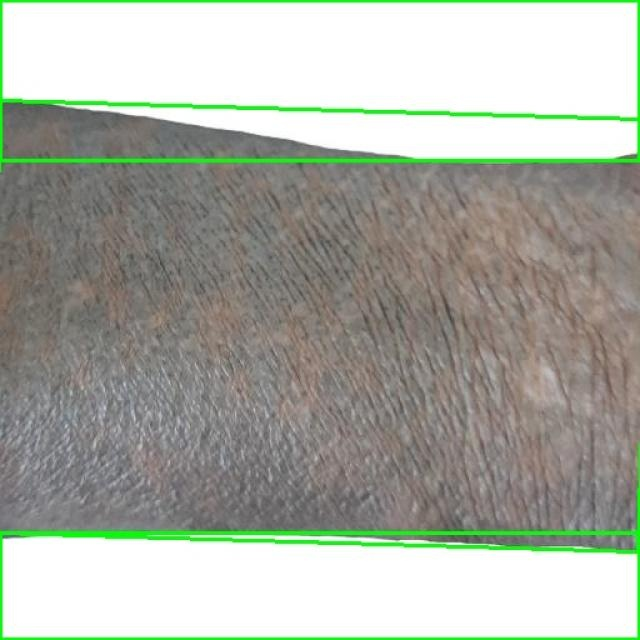Eczema: (0, 101, 640, 551), (0, 0, 639, 161), (0, 532, 639, 639)
